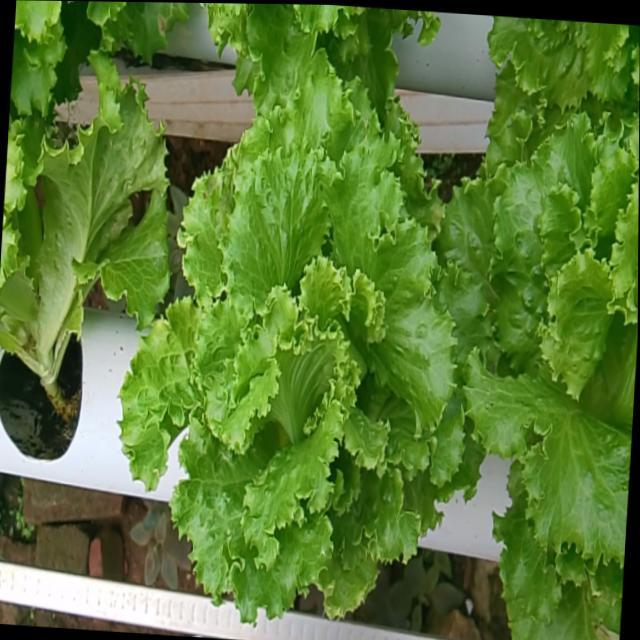Mature: (116, 82, 462, 638), (438, 120, 639, 584)
